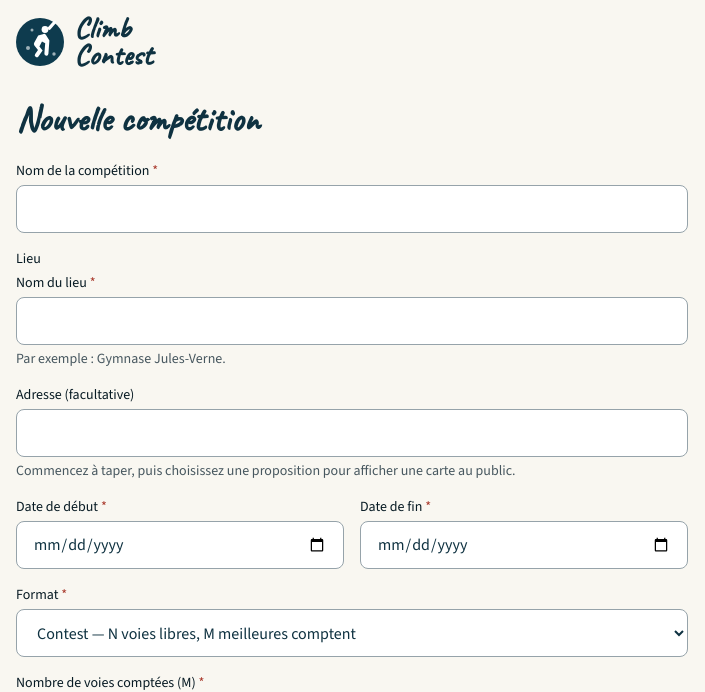
Test case: CompetitionCreate › affiche le champ « nombre de voies comptées » seulement en format contest
Select "Phases — qualification puis demi-finale / finale" in the dropdown labelled "Format *" at (352,633), box x1=16 y1=609 x2=688 y2=657
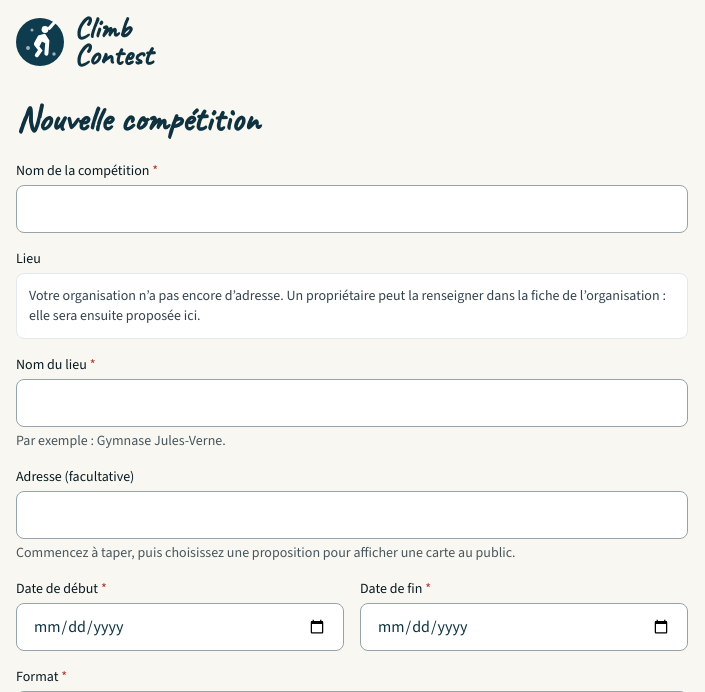
Check: the text "Nombre de voies comptées" is gone
